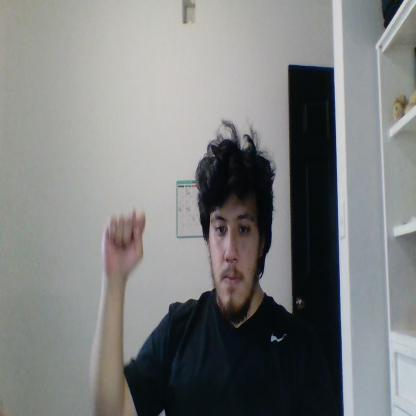T: (103, 207, 146, 272)
